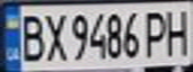4: (87, 9, 109, 60)
6: (121, 8, 145, 60)
8: (106, 9, 127, 60)
9: (66, 9, 90, 62)
B: (15, 10, 48, 62)
H: (160, 6, 193, 56)
P: (139, 7, 172, 57)
X: (39, 9, 69, 63)
